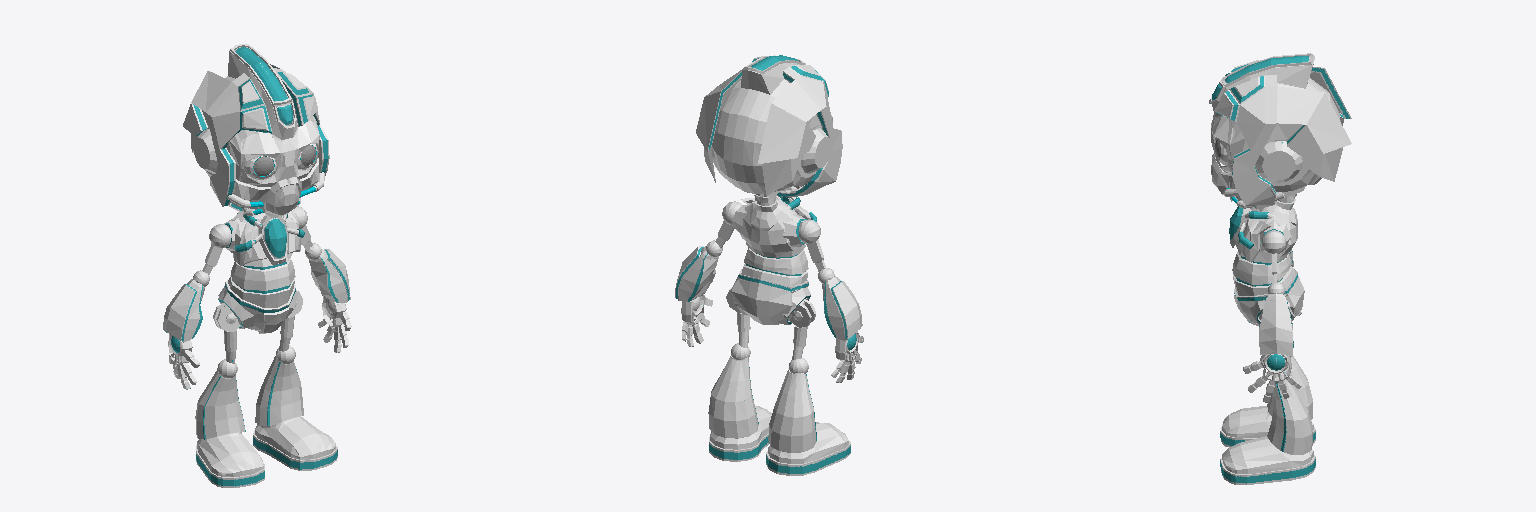
3 renders of one model, left to right at view 1: azimuth 30°, elevation 25°; view 2: azimuth 150°, elevation 25°; view 3: azimuth 270°, elevation 25°, orthographic.
Visible parts, largest first — view 1: Plane.012; view 2: Plane.012; view 3: Plane.012.
Boxes of the visible parts, x1=… form: Plane.012: x1=163, y1=44, x2=351, y2=487; Plane.012: x1=675, y1=55, x2=863, y2=475; Plane.012: x1=1209, y1=53, x2=1351, y2=484.
Size of the model in its own units: 3.42 by 7.24 by 2.37.
7 materials, 1 textured.